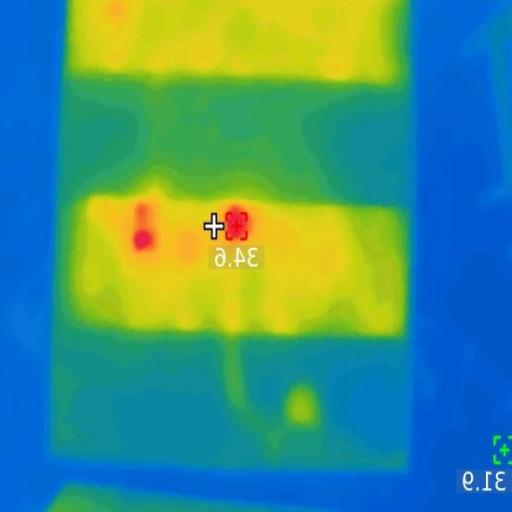hotspot: (131, 222, 160, 258), (222, 208, 250, 240)
